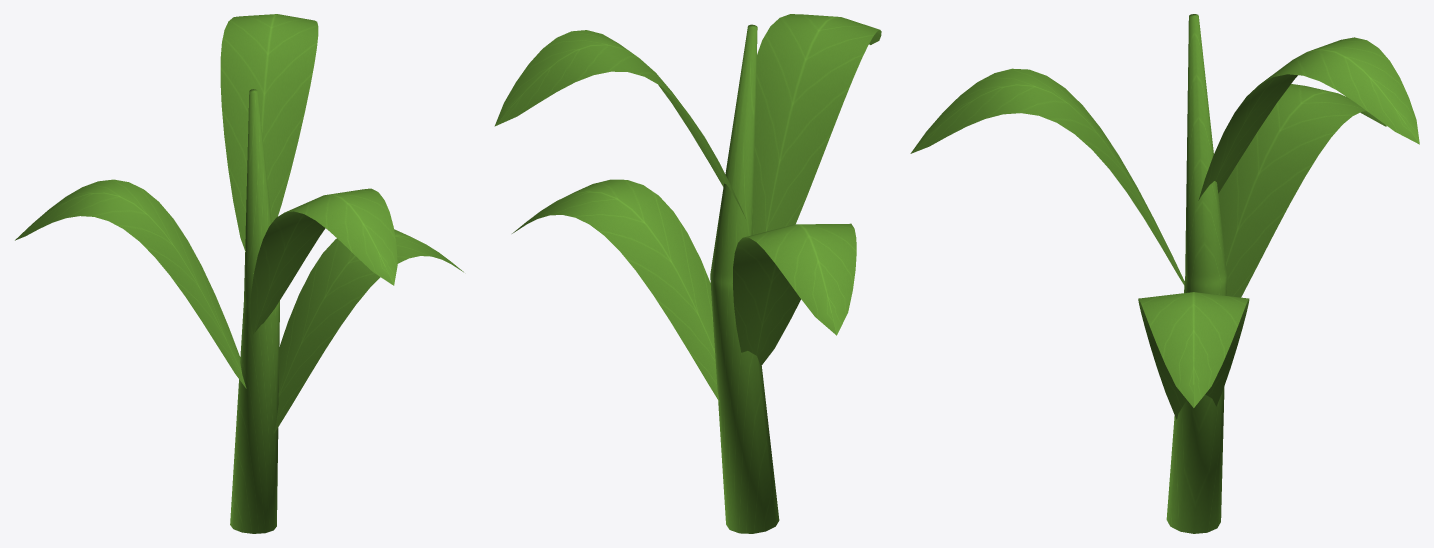
The model's file is crop-corn-growing.glb.
3 views of the same model, side by side, from view 1: azimuth 30°, elevation 25°; view 2: azimuth 150°, elevation 25°; view 3: azimuth 270°, elevation 25° (orthographic). The views are drawn at different scales.
Parts seen in each view (by area): view 1: crop_corn_growing; view 2: crop_corn_growing; view 3: crop_corn_growing.
Part boxes in pixels (bbox=[...]): crop_corn_growing: bbox=[15, 14, 463, 533]; crop_corn_growing: bbox=[494, 14, 881, 533]; crop_corn_growing: bbox=[910, 14, 1419, 533].
Size of the model in its own units: 0.3996 by 0.4605 by 0.4116.
1 material, 1 textured.
